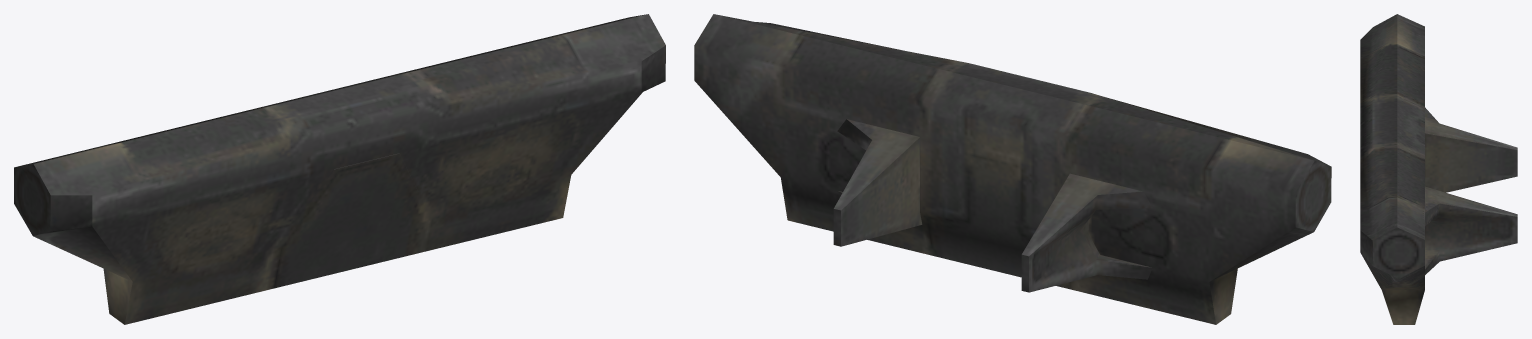
3 renders of one model, left to right at view 1: azimuth 30°, elevation 25°; view 2: azimuth 150°, elevation 25°; view 3: azimuth 270°, elevation 25°, orthographic. The views are drawn at different scales.
Visible parts, largest first — view 1: set_0_group_0; view 2: set_0_group_0; view 3: set_0_group_0.
Boxes of the visible parts, x1,y1,x2,y2 form: set_0_group_0: [14, 14, 665, 324]; set_0_group_0: [694, 14, 1331, 324]; set_0_group_0: [1360, 14, 1517, 324].
Bounding box in the file's own units: 0.2416 × 0.0677 × 0.0752.
Materials: 1 (1 with a texture image).
